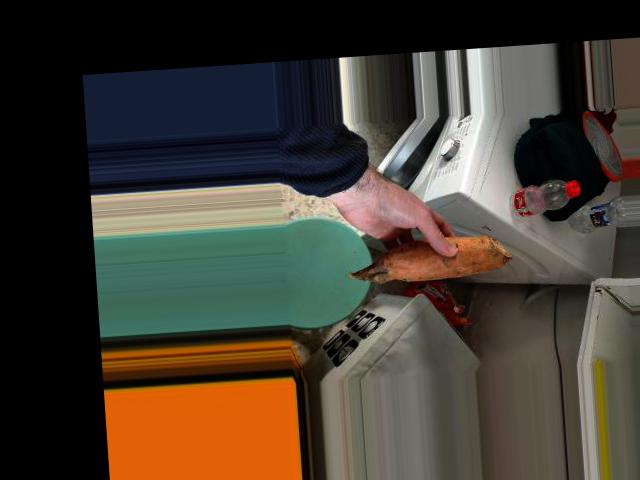sweet_potato: (345, 223, 501, 289)
